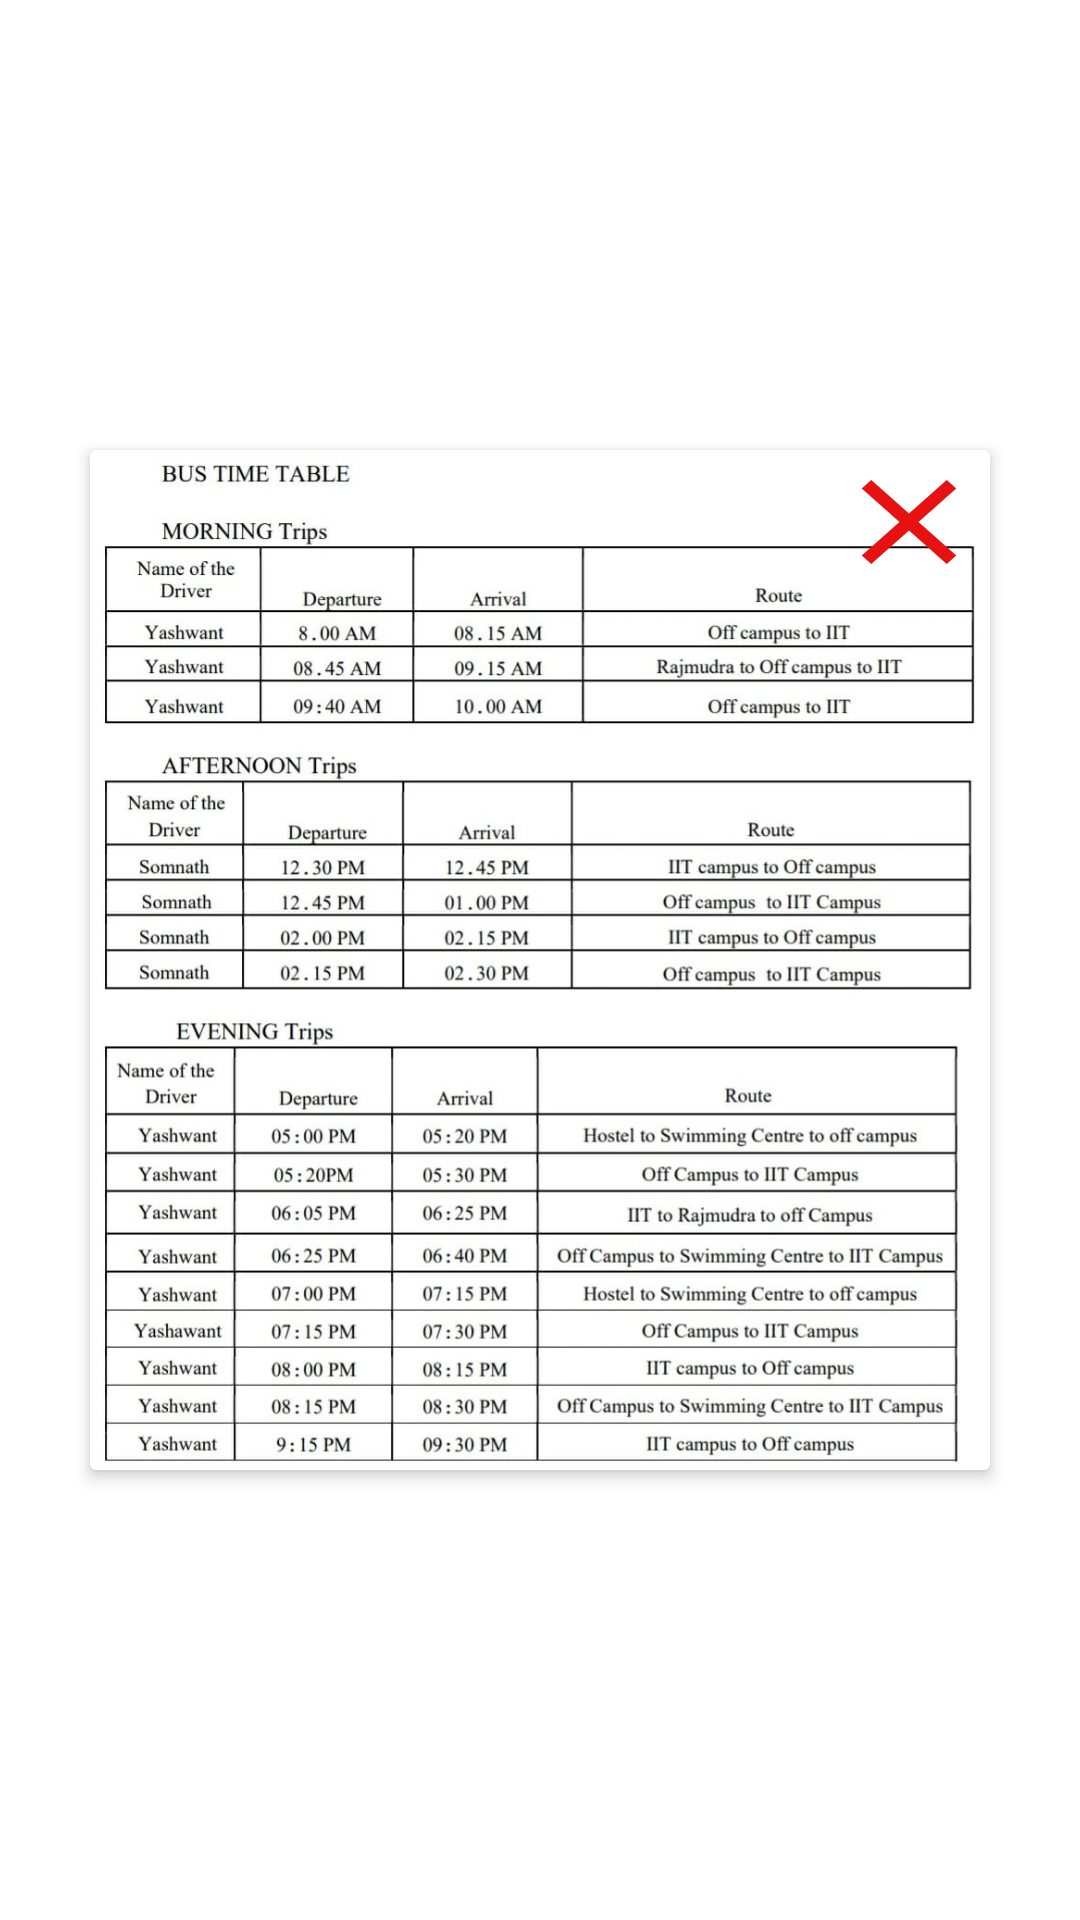

Point at icon controls on the screen. Image size 1080×1920, points as (x,y).
pop up close: (901,537)
